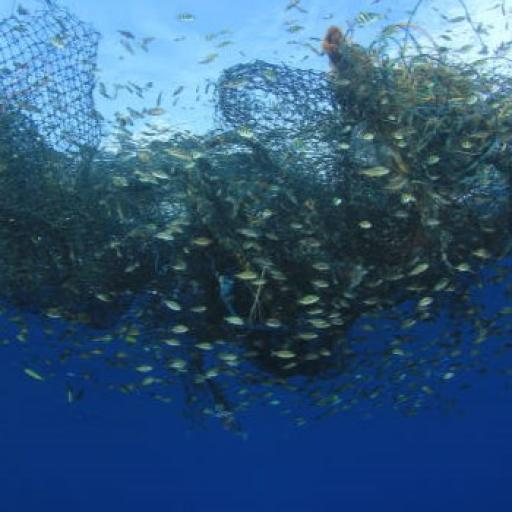net: (0, 0, 512, 398)
